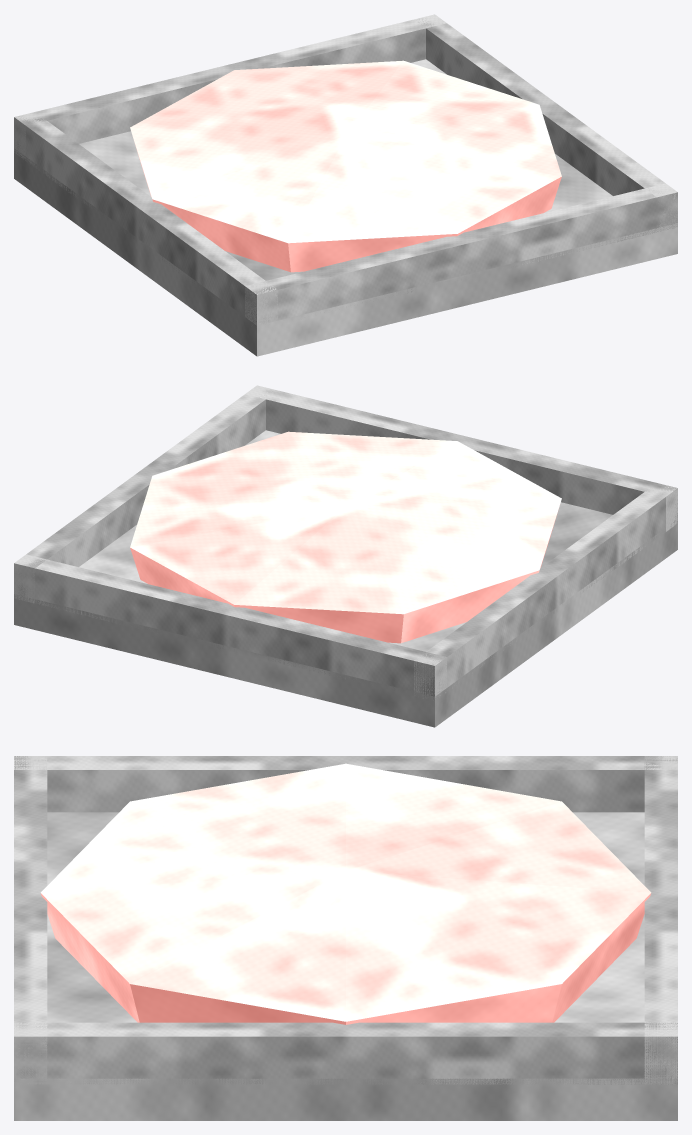
The model's file is architecture-crystal-foundation-2m.glb.
3 renders of one model, top to bottom at view 1: azimuth 30°, elevation 25°; view 2: azimuth 150°, elevation 25°; view 3: azimuth 270°, elevation 25°, orthographic. The views are drawn at different scales.
Visible parts, largest first — view 1: facet-0-0, shadow-bed, edge-north, edge-west, edge-south, edge-east; view 2: facet-0-0, shadow-bed, edge-south, edge-west, edge-north, edge-east; view 3: facet-0-0, shadow-bed, edge-east, edge-west, edge-south, edge-north.
Boxes of the visible parts, bbox=[...] form: facet-0-0: bbox=[130, 60, 561, 272]; shadow-bed: bbox=[14, 59, 677, 356]; edge-north: bbox=[245, 183, 677, 325]; edge-west: bbox=[14, 115, 277, 327]; edge-south: bbox=[14, 14, 446, 159]; edge-east: bbox=[418, 14, 677, 230]; facet-0-0: bbox=[130, 431, 561, 643]; shadow-bed: bbox=[14, 430, 677, 727]; edge-south: bbox=[14, 554, 446, 700]; edge-west: bbox=[414, 487, 677, 700]; edge-north: bbox=[245, 385, 677, 531]; edge-east: bbox=[14, 386, 274, 603]; facet-0-0: bbox=[40, 763, 651, 1024]; shadow-bed: bbox=[14, 812, 677, 1120]; edge-east: bbox=[14, 1022, 677, 1084]; edge-west: bbox=[14, 756, 677, 812]; edge-south: bbox=[644, 756, 677, 1084]; edge-north: bbox=[14, 756, 47, 1084].
Bounding box in the file's own units: 2 × 0.364 × 2.
Materials: 3 (3 with a texture image).
